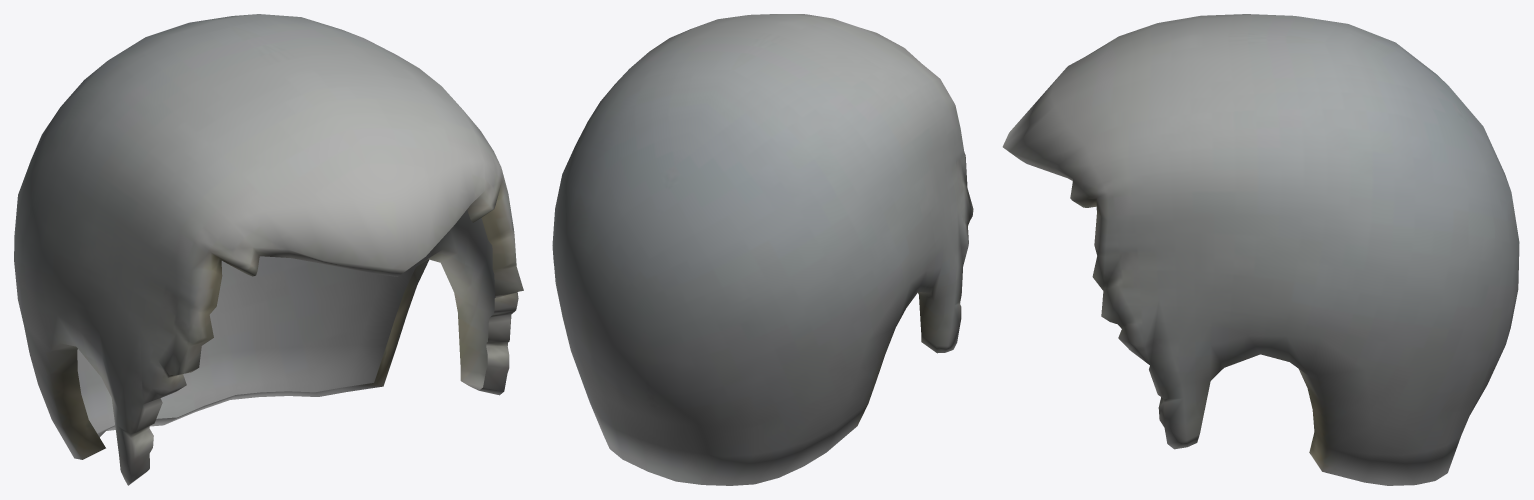
The model's file is hair-buzzed.glb.
The picture shows the model from 3 angles, left to right: view 1: azimuth 30°, elevation 25°; view 2: azimuth 150°, elevation 25°; view 3: azimuth 270°, elevation 25°; orthographic projection. The views are drawn at different scales.
Parts seen in each view (by area): view 1: Hair_Buzzed; view 2: Hair_Buzzed; view 3: Hair_Buzzed.
Boxes of the visible parts, <box> form: Hair_Buzzed: <box>14,14,523,485</box>; Hair_Buzzed: <box>552,14,973,485</box>; Hair_Buzzed: <box>1002,14,1519,485</box>.
Size of the model in its own units: 0.1546 by 0.1694 by 0.1909.
1 material, 1 textured.
